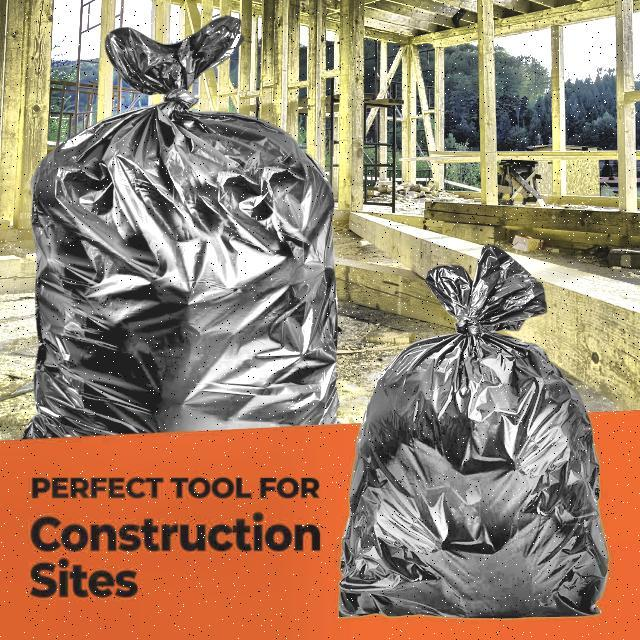Trashbag: (27, 106, 347, 443), (334, 338, 614, 629)
